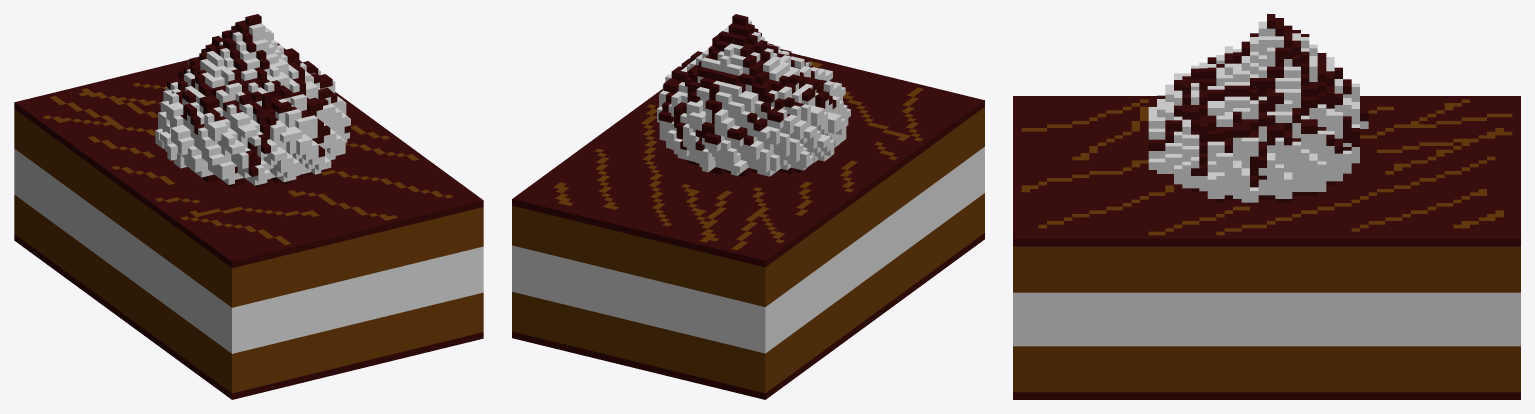
File: Cake.glb
The picture shows the model from 3 angles, left to right: view 1: azimuth 30°, elevation 25°; view 2: azimuth 150°, elevation 25°; view 3: azimuth 270°, elevation 25°; orthographic projection. The views are drawn at different scales.
Visible parts, largest first — view 1: Untitled; view 2: Untitled; view 3: Untitled.
Part boxes in pixels (box(x1,y1,x2,y2)): Untitled: box(14, 14, 483, 399); Untitled: box(512, 14, 984, 399); Untitled: box(1013, 14, 1520, 399).
Bounding box in the file's own units: 4 × 4.1 × 6.
1 material, 1 textured.
